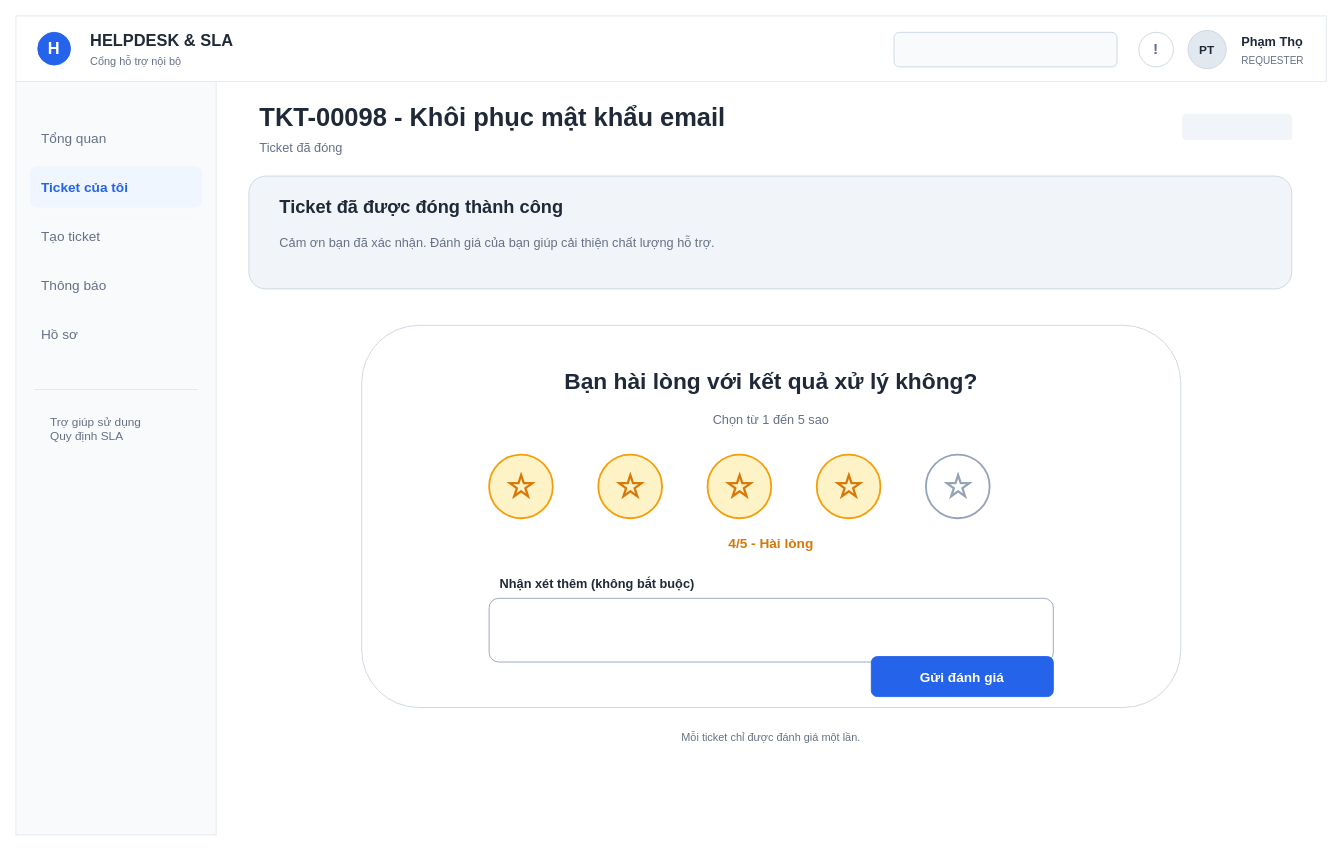
This 1342x851 diagram has some shape labels left out. The centre of each missing label's shape, as x and y in pixels:
"Chia sẻ điều bạn hài lòng hoặc cần cải thiện..." belongs at point 770,629.
"CLOSED" belongs at point 1237,126.
"Tìm theo mã hoặc tiêu đề..." belongs at point 1005,49.
